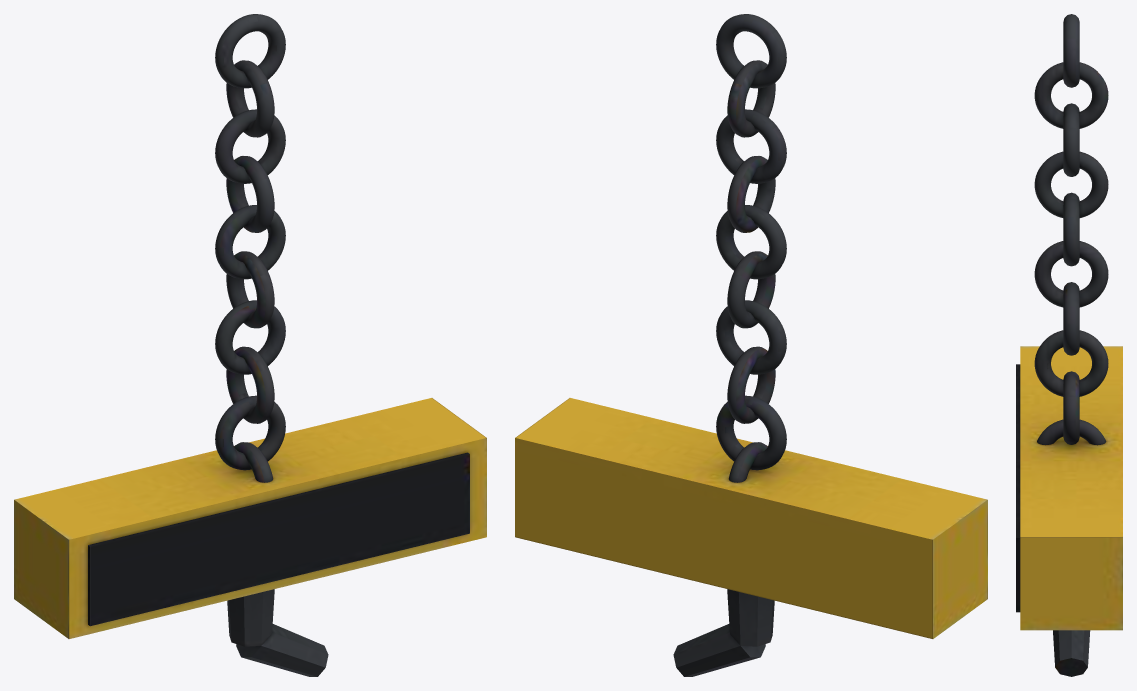
Rendered from gancho_grua.glb.
3 views of the same model, side by side, from view 1: azimuth 30°, elevation 25°; view 2: azimuth 150°, elevation 25°; view 3: azimuth 270°, elevation 25° (orthographic). The views are drawn at different scales.
Parts seen in each view (by area): view 1: gancho_grua; view 2: gancho_grua; view 3: gancho_grua.
Boxes of the visible parts, bbox=[...] form: gancho_grua: bbox=[14, 14, 486, 676]; gancho_grua: bbox=[515, 14, 987, 676]; gancho_grua: bbox=[1016, 14, 1122, 676].
Size of the model in its own units: 2.2 by 3.4 by 0.52.
1 material, 1 textured.
